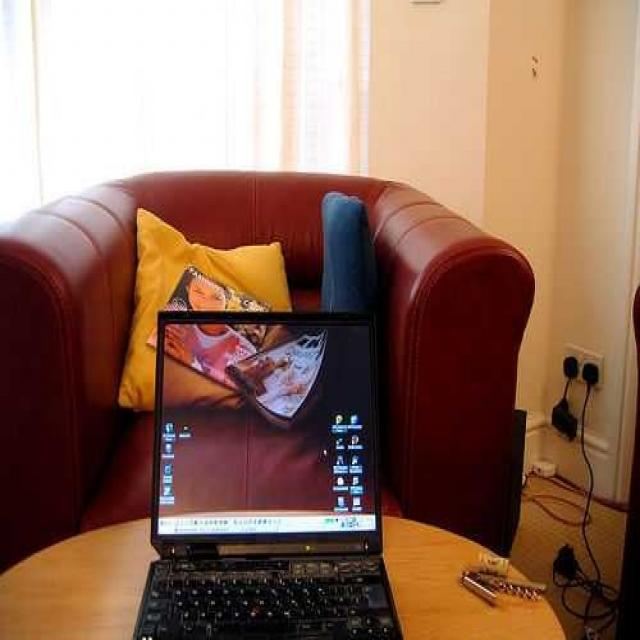laptop: (154, 312, 393, 640)
